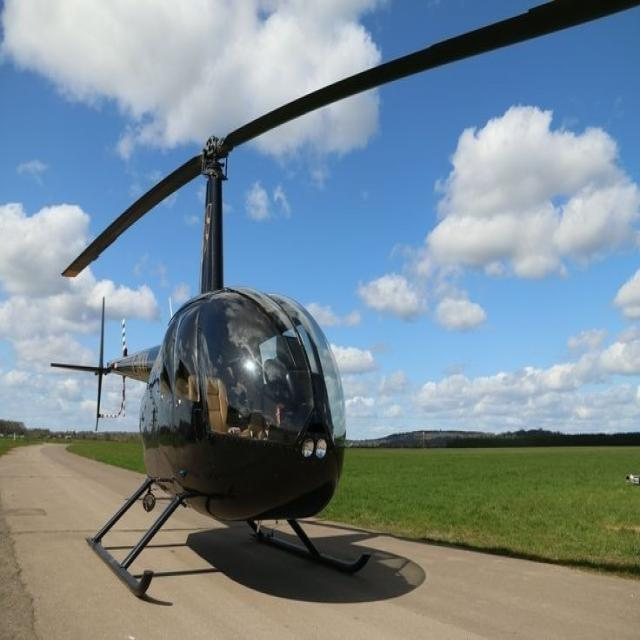CIV_HELO: (46, 123, 371, 605)
